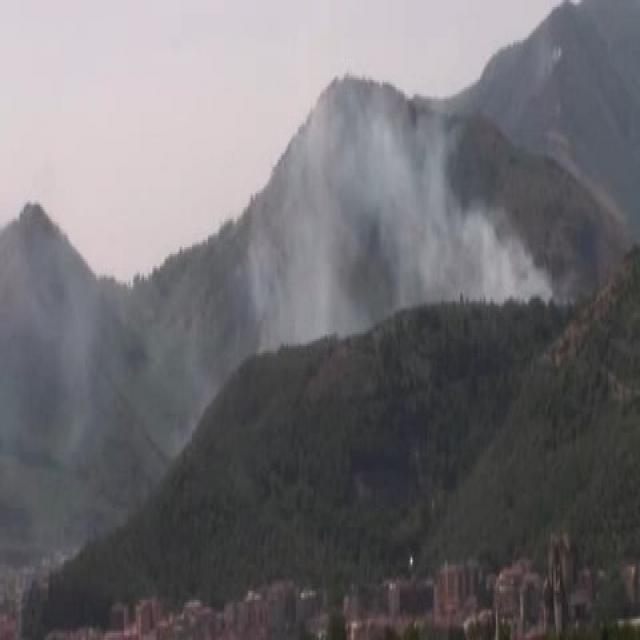smoke: (318, 101, 511, 315)
